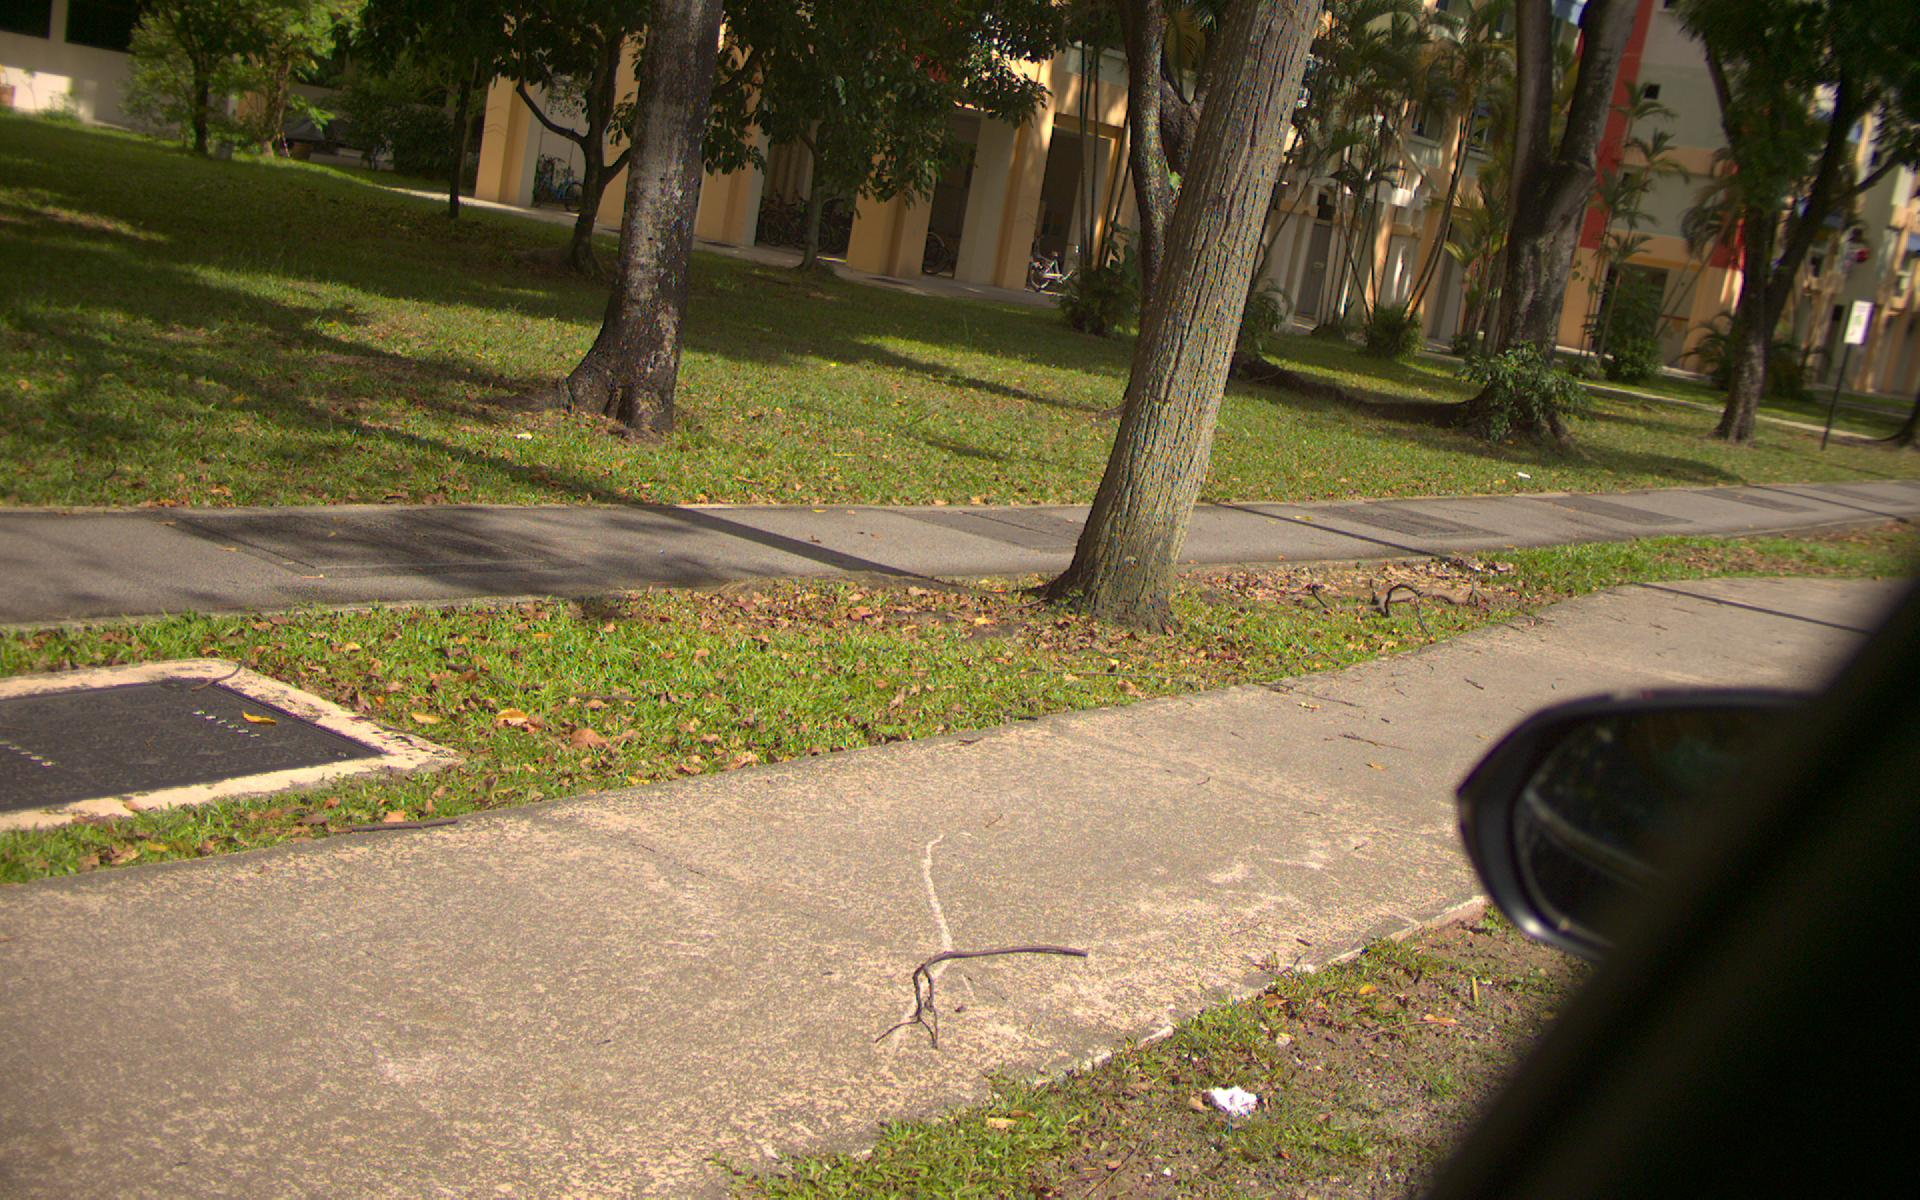pathway_low: (21, 890, 740, 1200), (1, 512, 1400, 568)
road_turf_low: (10, 142, 505, 482), (4, 632, 688, 771)
